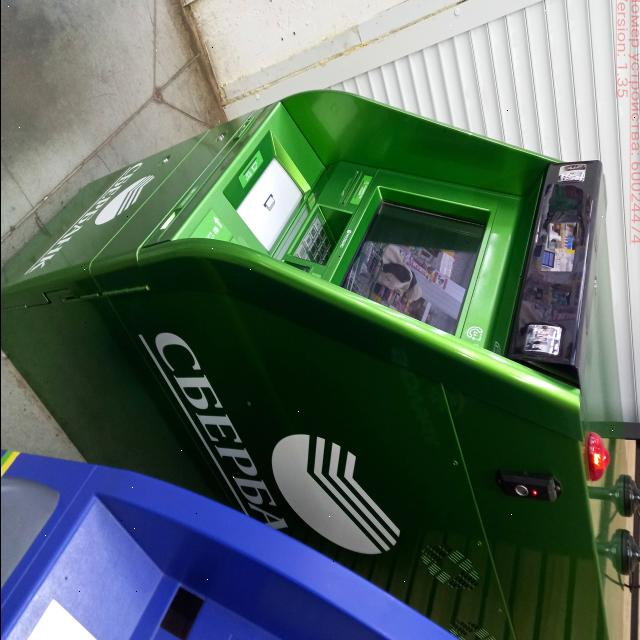bank: (0, 83, 637, 640)
